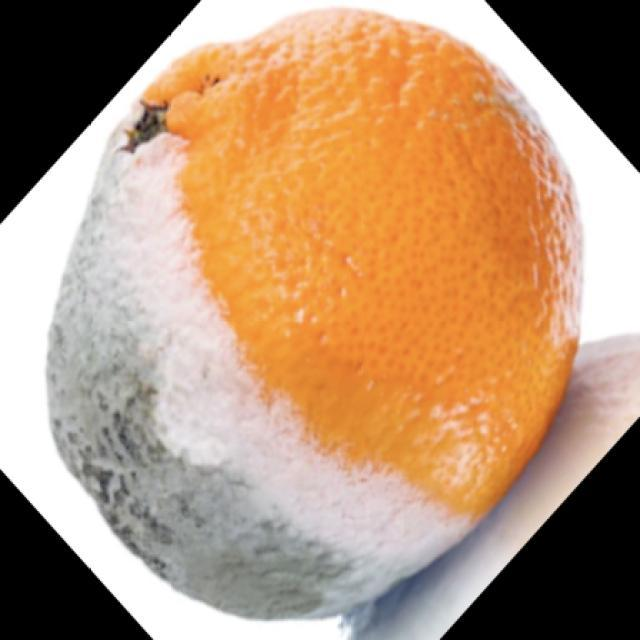sedikit-busuk: (49, 10, 581, 618), (47, 134, 471, 620)
